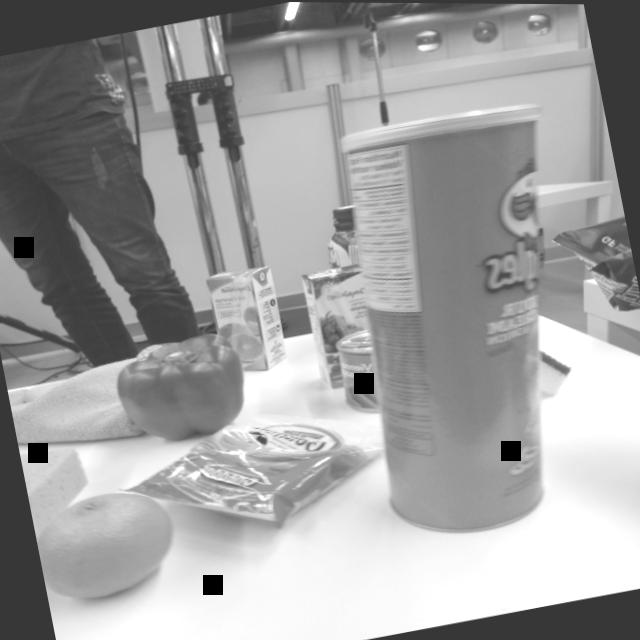chocolate_drink: (318, 203, 365, 274)
cloth_opl: (5, 351, 144, 461)
crackers: (148, 398, 385, 544)
grape_juice: (294, 259, 380, 390)
orange: (30, 477, 189, 617)
orange_juice: (202, 259, 293, 375)
paprika: (116, 326, 259, 455)
pringles: (315, 90, 619, 549)
sausages: (329, 325, 389, 416)
sponge_opl: (20, 442, 98, 533)
